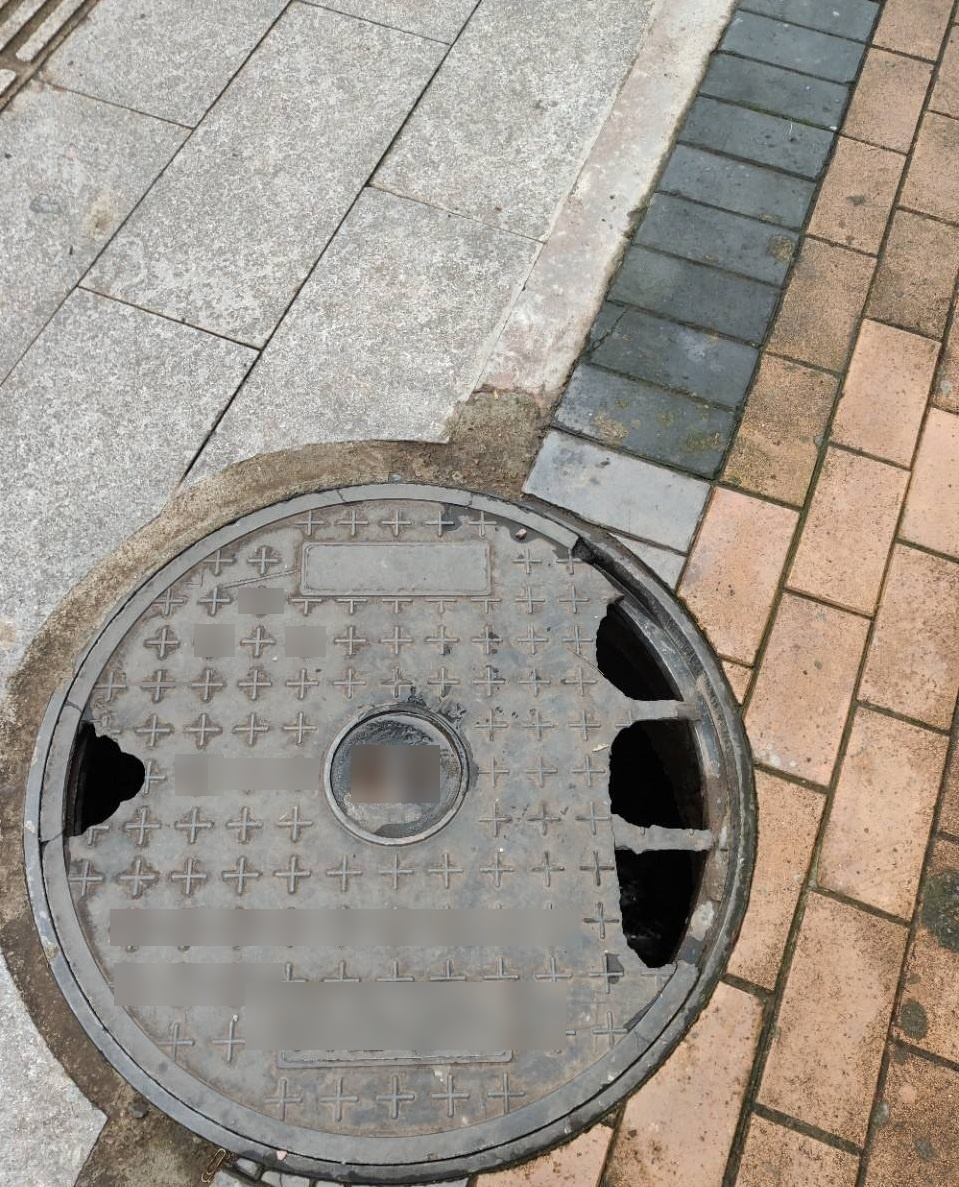well: (20, 475, 756, 1181)
